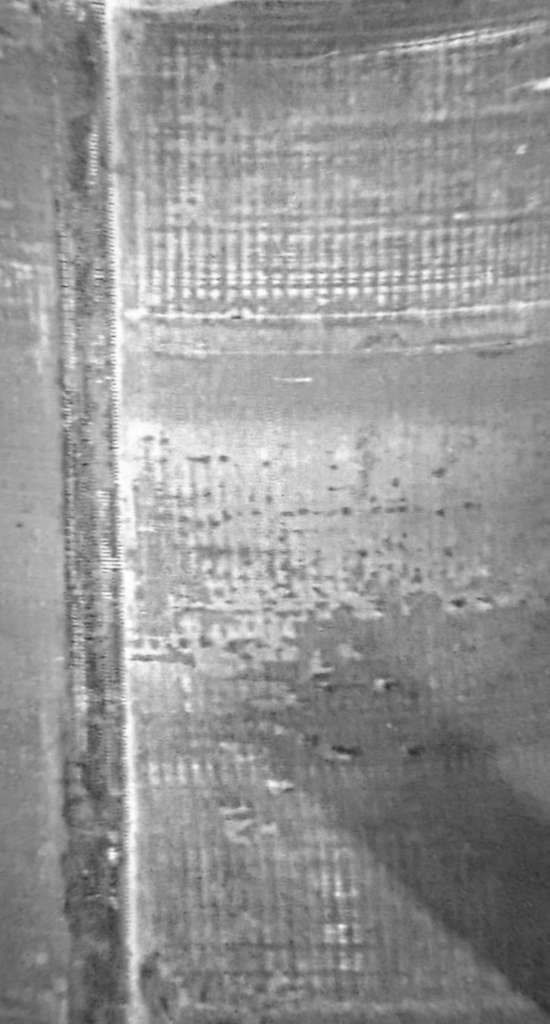splice: (33, 2, 147, 1024)
